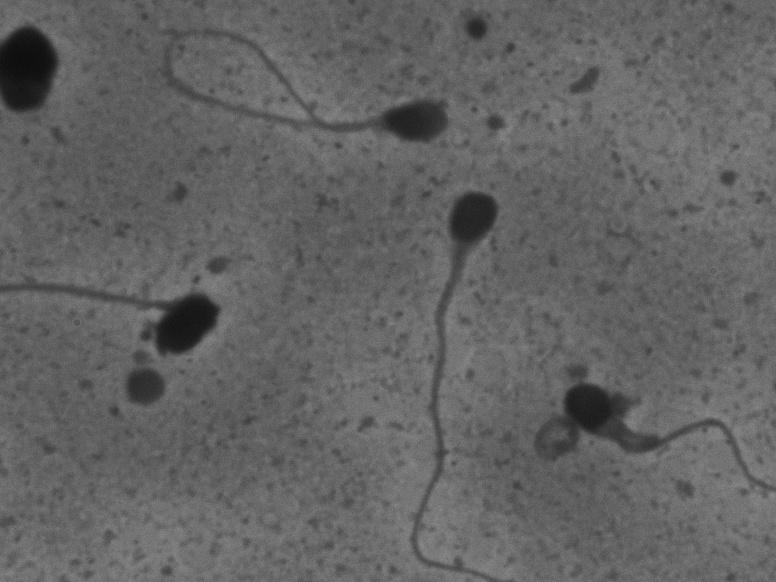Abnormal: (383, 175, 513, 577), (135, 22, 461, 155), (554, 325, 763, 530), (6, 238, 252, 373)
